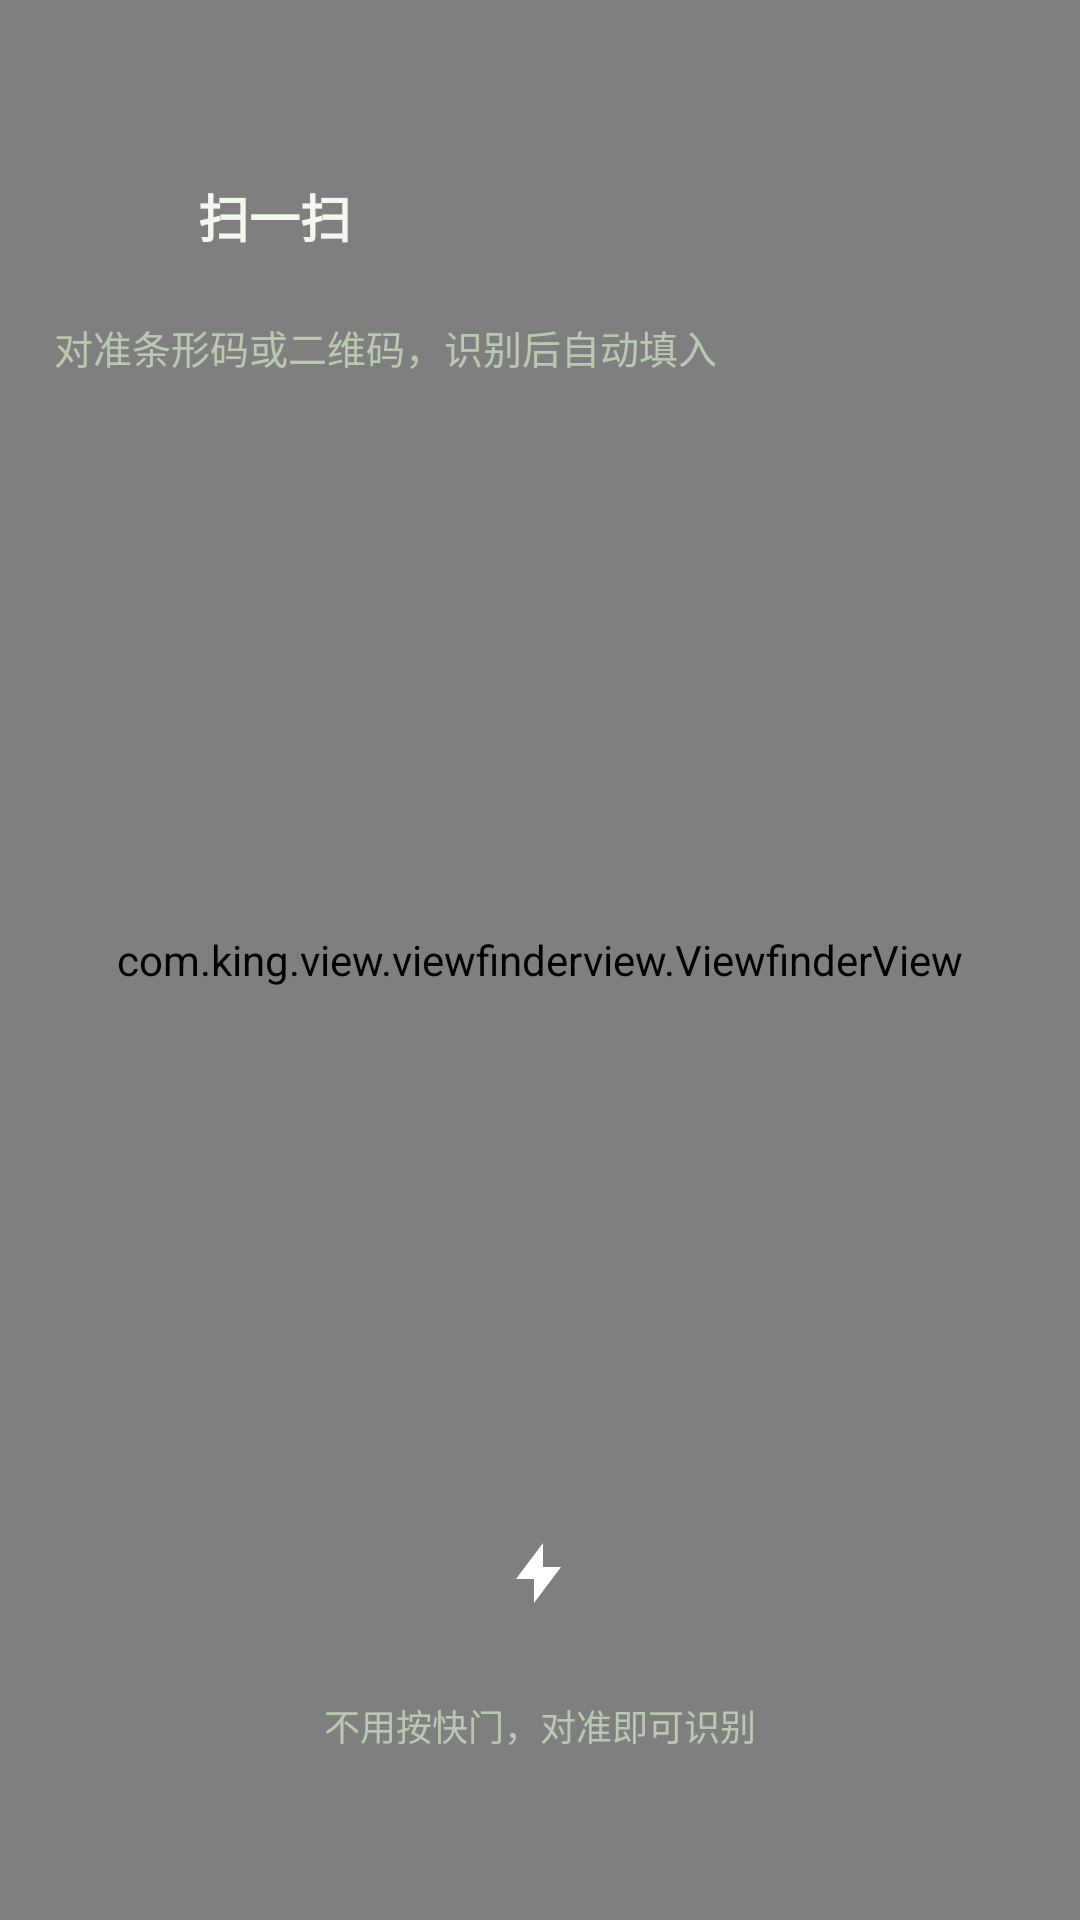

Locate icon controls on the screen. Image size 1080*1920, boxes as (x1, y1, x2, y2).
手电筒: (516, 1543, 561, 1603)
